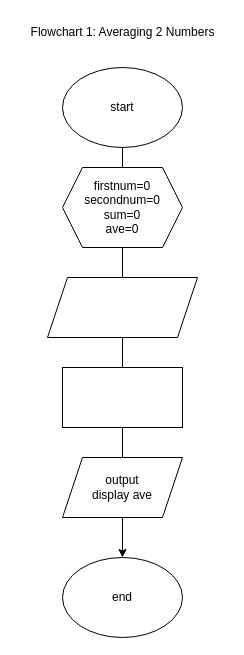
This 244x655 diagram has some shape labels left out. Each missing label, with the centre of its shape:
ave=sum/2: (x=122, y=397)
input get firstnum() get secondnum(): (x=122, y=307)
